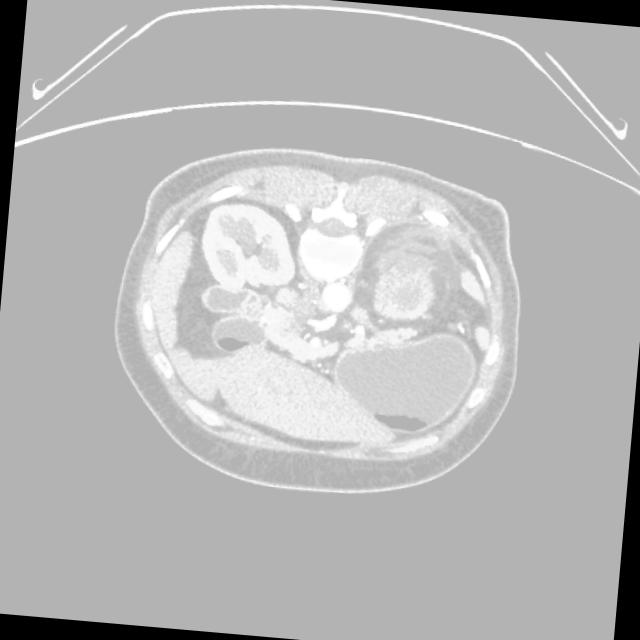TUMOR: (115, 236, 524, 445)
